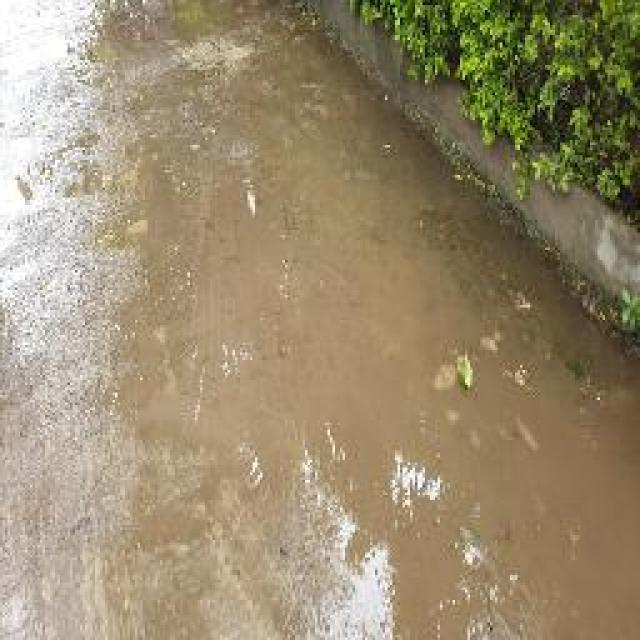stagnation: (101, 60, 429, 640)
